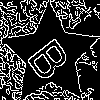B: (25, 30, 80, 85)
